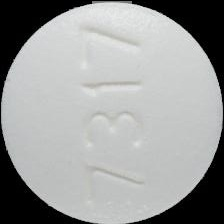0615-7549: (0, 0, 224, 224)
